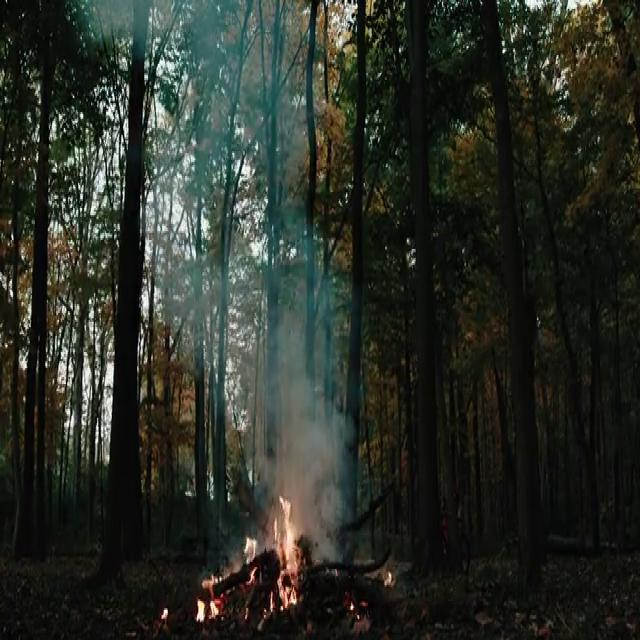smoke: (276, 302, 353, 500), (174, 257, 265, 391)
